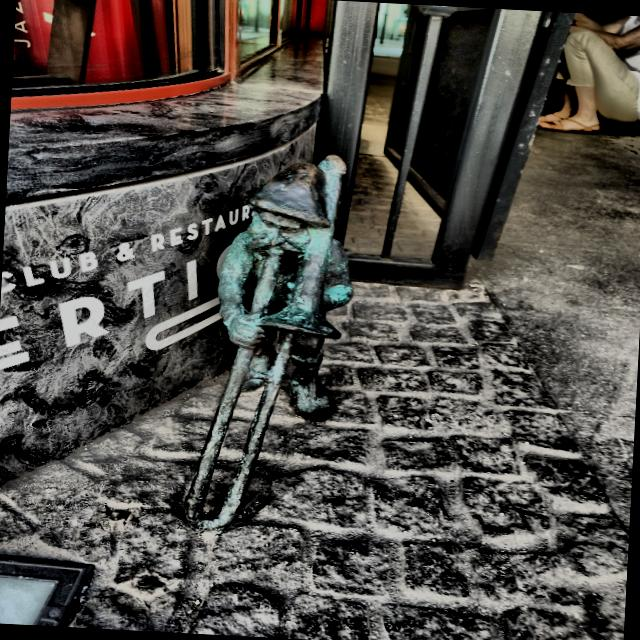Vertigus: (185, 155, 352, 532)
